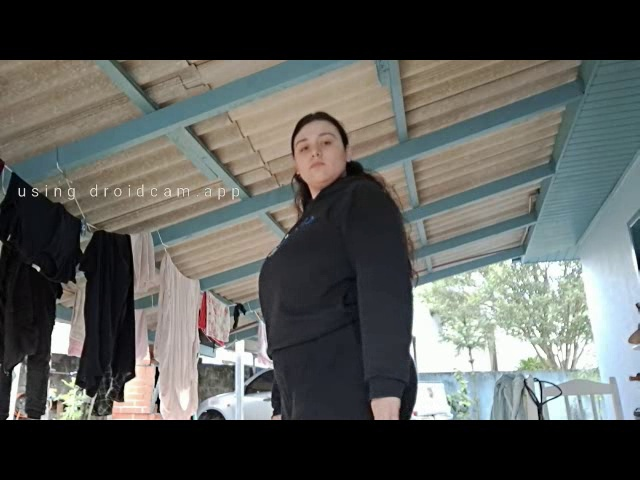MULHER: (270, 83, 386, 215)
